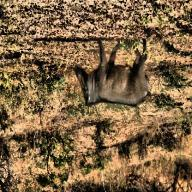boar: (72, 34, 184, 120)
